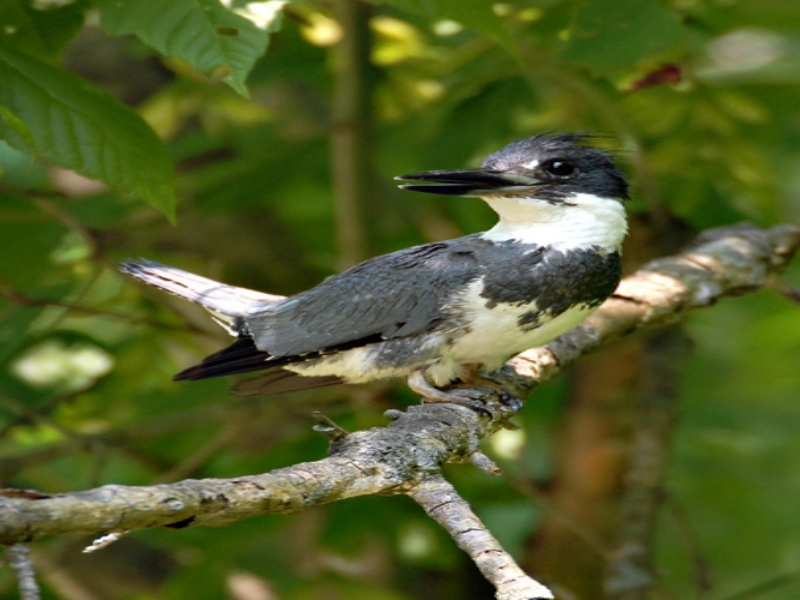kingfisher: (123, 136, 641, 431)
